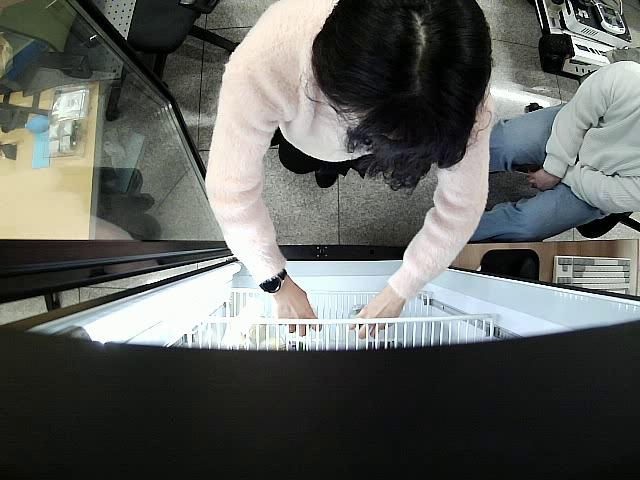00_hand: (349, 296, 405, 339), (274, 291, 323, 336)
